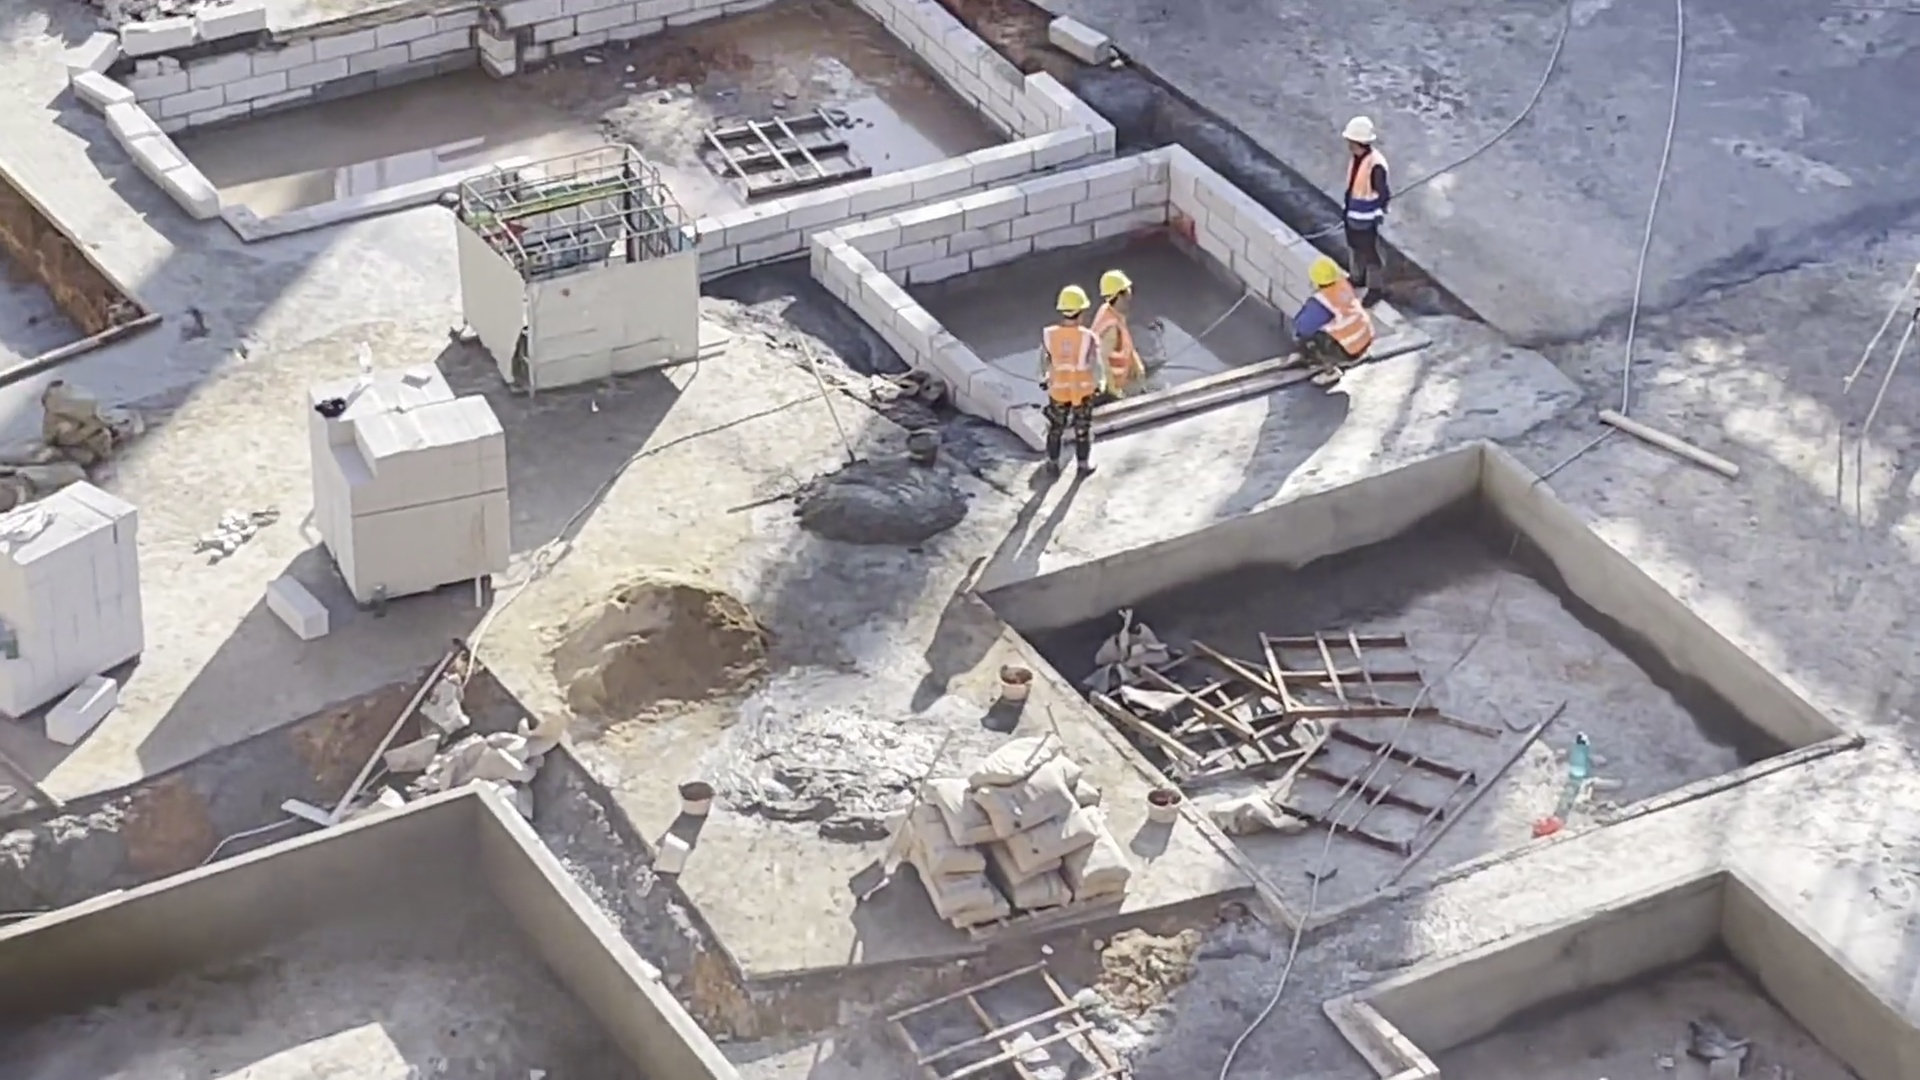brick: (308, 378, 525, 591), (1, 465, 173, 726)
helmet: (1339, 115, 1376, 149), (1060, 281, 1090, 316), (1097, 267, 1133, 297), (1308, 255, 1333, 283)
person: (1333, 105, 1400, 294), (1285, 253, 1369, 394), (1034, 285, 1103, 450), (1088, 261, 1148, 411)
vest: (1038, 324, 1094, 407), (1304, 285, 1368, 352), (1093, 302, 1138, 379), (1346, 156, 1378, 201)
